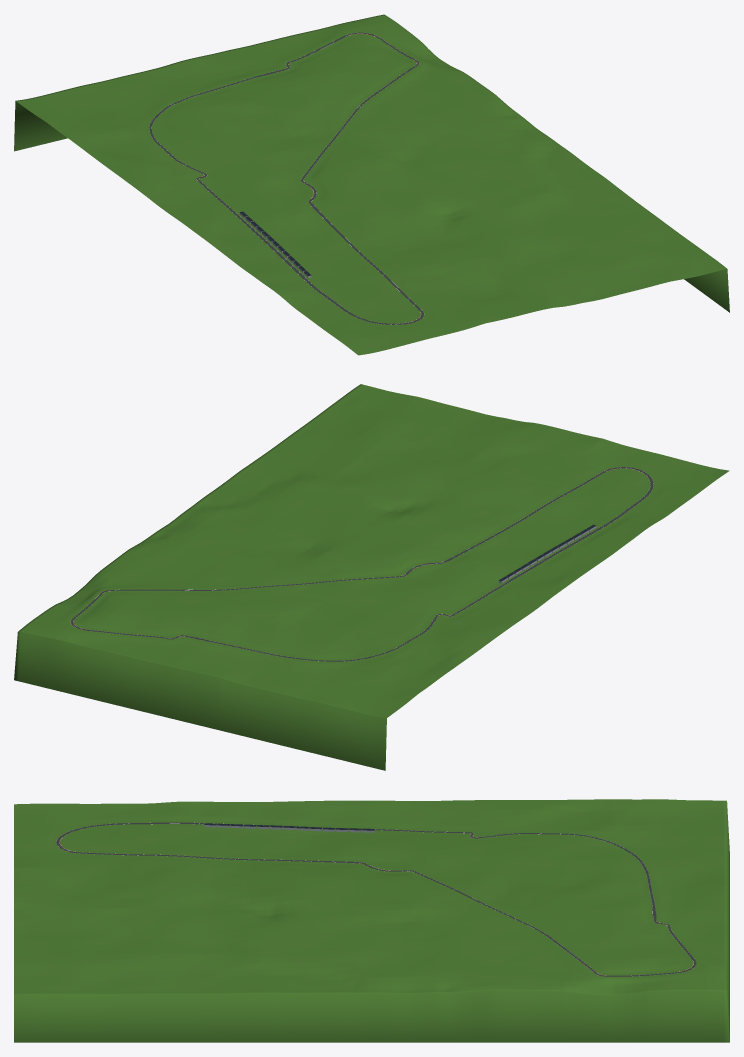
Rendered from monza_track.glb.
3 views of the same model, one above another, from view 1: azimuth 30°, elevation 25°; view 2: azimuth 150°, elevation 25°; view 3: azimuth 270°, elevation 25° (orthographic). The views are drawn at different scales.
Visible parts, largest first — view 1: Terrain, Track_Asphalt; view 2: Terrain, Track_Asphalt; view 3: Terrain, Track_Asphalt.
Boxes of the visible parts, bbox=[...] form: Terrain: bbox=[14, 14, 729, 355]; Track_Asphalt: bbox=[149, 32, 423, 324]; Terrain: bbox=[14, 384, 729, 770]; Track_Asphalt: bbox=[71, 467, 653, 661]; Terrain: bbox=[14, 799, 729, 1042]; Track_Asphalt: bbox=[56, 822, 696, 976].
Size of the model in its own units: 1520 by 208 by 2440.
